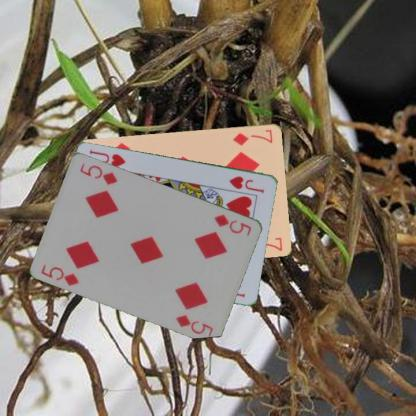5d: (39, 261, 81, 287), (212, 211, 253, 237)
7d: (230, 126, 274, 146)
Jh: (227, 173, 266, 194)
